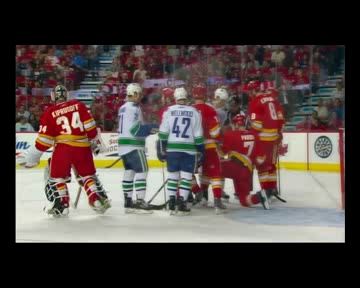normal: (110, 78, 208, 220), (26, 80, 108, 218), (220, 77, 292, 213)
